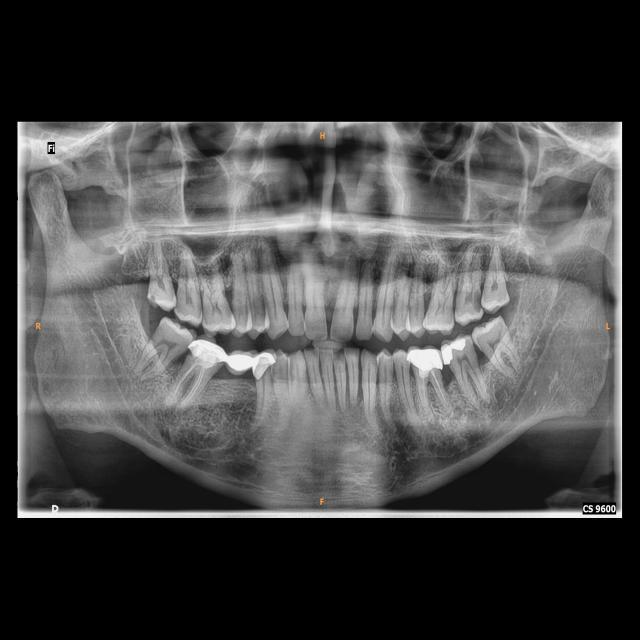dentin-curugu: (470, 290, 482, 312)
dolgu: (442, 338, 468, 364)
kanal-tedavisi: (175, 358, 206, 408), (418, 370, 445, 413)
kaplama: (192, 337, 226, 368), (408, 348, 443, 373), (254, 350, 275, 381)
